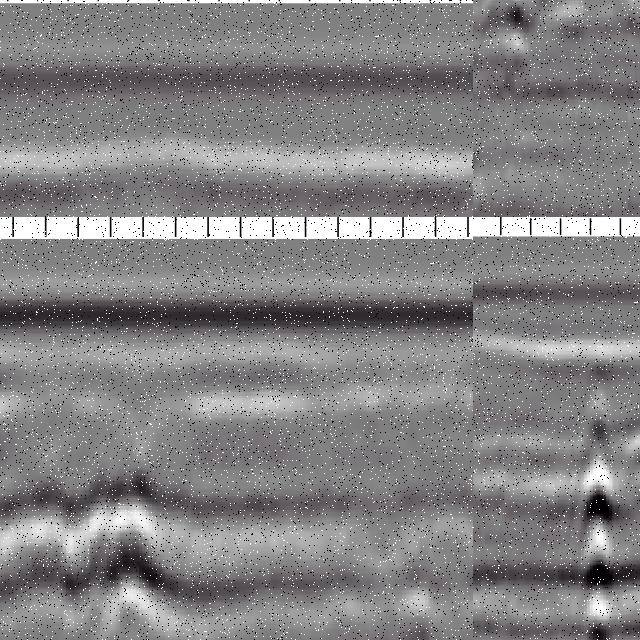crack: (575, 354, 616, 640)
loose: (1, 463, 167, 640), (474, 1, 634, 87)
